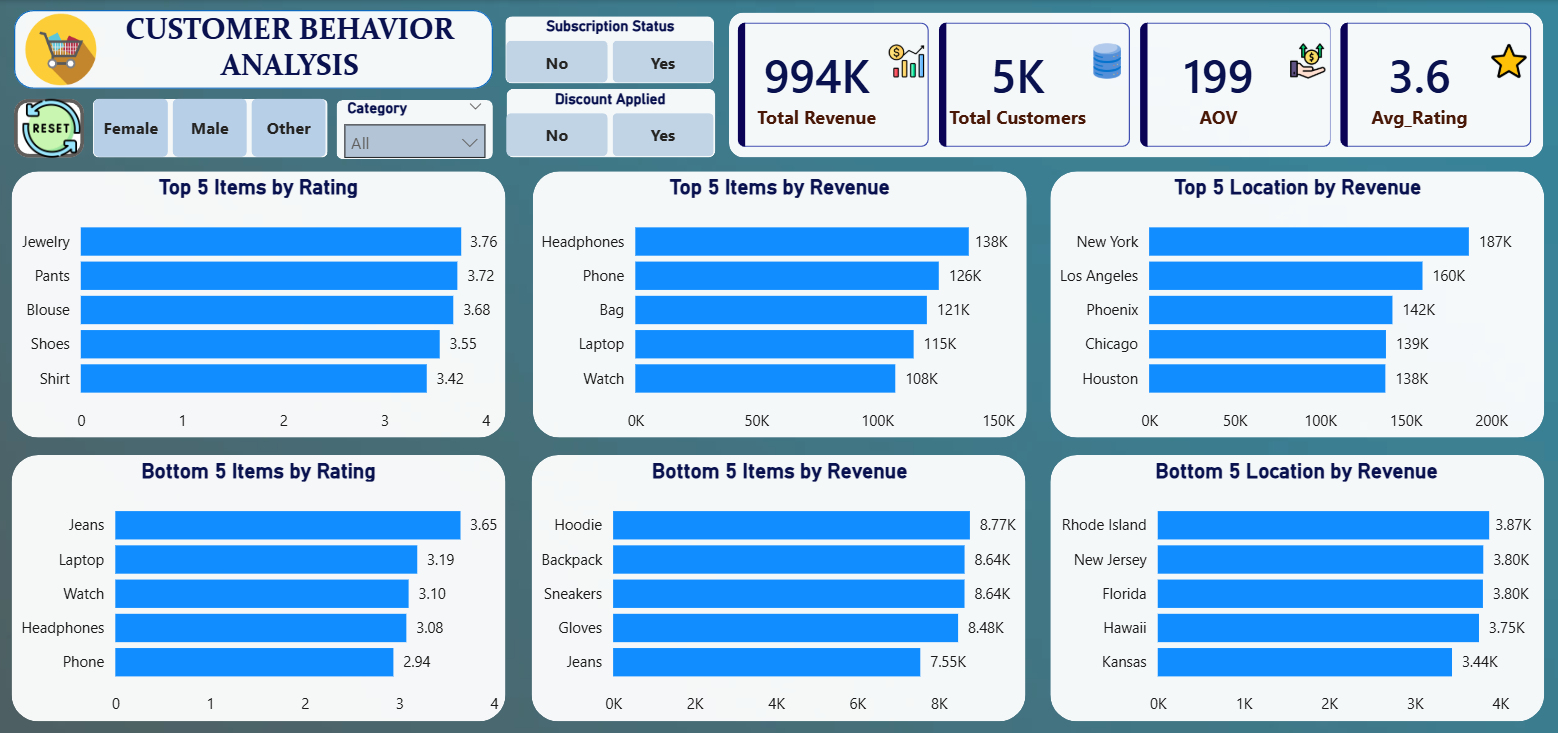

The dashboard page shown, as its layout file describes it:
{"tool":"powerbi","page":{"name":"Best - Worst","canvas":[1265,595],"ordinal":1},"visuals":[{"type":"shape","box":[592.5,10.1,660.5,117.7],"z":0},{"type":"shape","box":[10.1,139,400.8,216.1],"z":1000},{"type":"cardVisual","fields":{"Data":["public customer.Total Revenue","public customer.Total Customers","public customer.AOV","public customer.Avg_Review_Rating"]},"box":[599.6,18.3,646.3,101.5],"z":2000},{"type":"shape","box":[852.3,369.3,400.8,216.1],"z":3000},{"type":"clusteredBarChart","title":"Top 5 Items by Rating","fields":{"Category":["public customer.item_purchased"],"Y":["Avg(public customer.review_rating)"]},"box":[10.1,139,400.8,216.1],"z":4000},{"type":"shape","box":[852.3,139,400.8,216.1],"z":5000},{"type":"shape","box":[433.2,139,400.8,216.1],"z":6000},{"type":"shape","box":[432.2,369.3,400.8,216.1],"z":7000},{"type":"clusteredBarChart","title":"Top 5 Items by Revenue","fields":{"Category":["public customer.item_purchased"],"Y":["Sum(public customer.purchase_amount)"]},"box":[432.2,139,400.8,216.1],"z":8000},{"type":"shape","box":[10.1,369.3,400.8,216.1],"z":9000},{"type":"clusteredBarChart","title":"Top 5 Location by Revenue","fields":{"Category":["public customer.location"],"Y":["Sum(public customer.purchase_amount)"]},"box":[852.3,139,400.8,216.1],"z":10000},{"type":"clusteredBarChart","title":"Bottom 5 Items by Rating","fields":{"Category":["public customer.item_purchased"],"Y":["Avg(public customer.review_rating)"]},"box":[10.1,369.3,400.8,216.1],"z":11000},{"type":"clusteredBarChart","title":"Bottom 5 Items by Revenue","fields":{"Category":["public customer.item_purchased"],"Y":["Sum(public customer.purchase_amount)"]},"box":[432.2,369.3,400.8,216.1],"z":12000},{"type":"clusteredBarChart","title":"Bottom 5 Location by Revenue","fields":{"Category":["public customer.location"],"Y":["Sum(public customer.purchase_amount)"]},"box":[852.3,369.3,400.8,216.1],"z":13000},{"type":"shape","box":[410.9,13.2,169.4,54.8],"z":14000},{"type":"shape","box":[12.2,8.1,388.6,63.9],"z":15000},{"type":"shape","box":[76.1,80.2,190.7,47.7],"z":16000},{"type":"shape","box":[411.9,72,169.4,55.8],"z":17000},{"type":"actionButton","box":[12.2,80.2,56.8,47.7],"z":18000},{"type":"textbox","box":[71,8.1,329.7,63.9],"z":19000},{"type":"image","box":[12.2,8.1,76.1,63.9],"z":20000},{"type":"shape","box":[273.9,81.2,126.8,48],"z":20500},{"type":"image","box":[14.2,80.2,56.8,47.7],"z":21000},{"type":"advancedSlicerVisual","title":"Subscription Status","fields":{"Values":["public customer.subscription_status"]},"box":[410.9,13.2,170.5,54.8],"z":22000},{"type":"advancedSlicerVisual","title":"Discount Applied","fields":{"Values":["public customer.discount_applied"]},"box":[410.9,72,170.5,55.8],"z":23000},{"type":"advancedSlicerVisual","fields":{"Values":["public customer.gender"]},"box":[76.1,80.2,190.7,47.7],"z":24000},{"type":"slicer","fields":{"Values":["public customer.category"]},"box":[273.9,80.2,126.8,47.7],"z":26000}]}

Visuals, with their boxes in screenshot pixels (x1, y1, x2, y2), scaled from the page's 1265x595 canvas onto the 1558x733 screenshot:
shape: box=[730, 12, 1543, 157]
shape: box=[12, 171, 506, 437]
cardVisual - public customer.Total Revenue x public customer.Total Customers: box=[738, 23, 1534, 148]
shape: box=[1050, 455, 1543, 721]
"Top 5 Items by Rating" clusteredBarChart: box=[12, 171, 506, 437]
shape: box=[1050, 171, 1543, 437]
shape: box=[534, 171, 1027, 437]
shape: box=[532, 455, 1026, 721]
"Top 5 Items by Revenue" clusteredBarChart: box=[532, 171, 1026, 437]
shape: box=[12, 455, 506, 721]
"Top 5 Location by Revenue" clusteredBarChart: box=[1050, 171, 1543, 437]
"Bottom 5 Items by Rating" clusteredBarChart: box=[12, 455, 506, 721]
"Bottom 5 Items by Revenue" clusteredBarChart: box=[532, 455, 1026, 721]
"Bottom 5 Location by Revenue" clusteredBarChart: box=[1050, 455, 1543, 721]
shape: box=[506, 16, 715, 84]
shape: box=[15, 10, 494, 89]
shape: box=[94, 99, 329, 158]
shape: box=[507, 89, 716, 157]
actionButton: box=[15, 99, 85, 158]
textbox: box=[87, 10, 494, 89]
image: box=[15, 10, 109, 89]
shape: box=[337, 100, 494, 159]
image: box=[17, 99, 87, 158]
"Subscription Status" advancedSlicerVisual: box=[506, 16, 716, 84]
"Discount Applied" advancedSlicerVisual: box=[506, 89, 716, 157]
advancedSlicerVisual - public customer.gender: box=[94, 99, 329, 158]
slicer - public customer.category: box=[337, 99, 494, 158]
